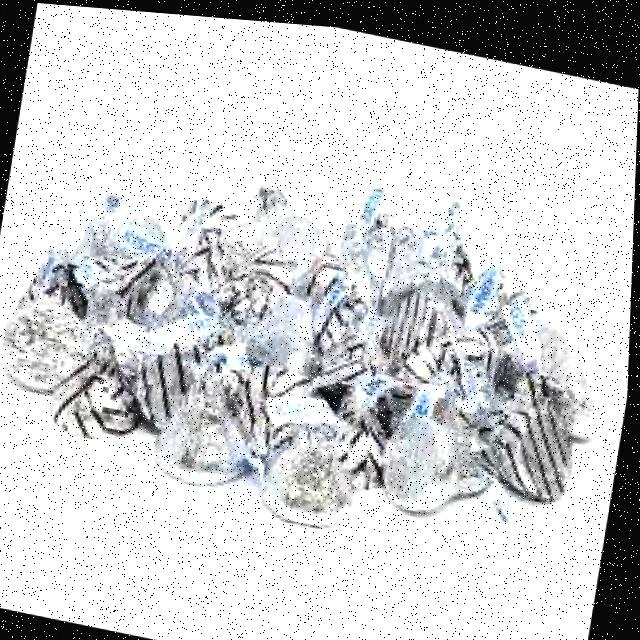kisses: (148, 353, 279, 492), (252, 391, 374, 534), (373, 401, 496, 521), (0, 291, 102, 406), (234, 279, 332, 389), (511, 300, 600, 385), (255, 194, 340, 281)
